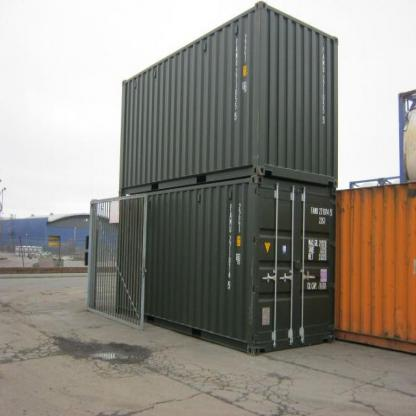Damage: (245, 248, 256, 322), (362, 228, 378, 276), (372, 186, 406, 208), (334, 189, 354, 219), (374, 325, 408, 341)
